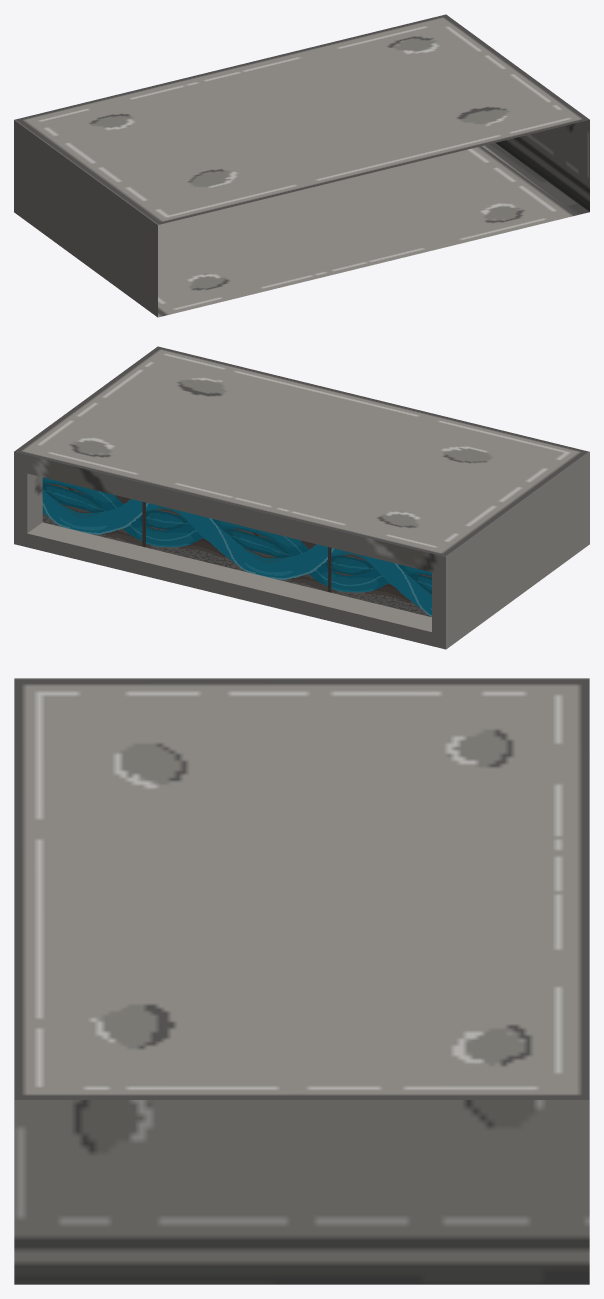
Rendered from SmallWallFBX.fbx.
3 views of the same model, one above another, from view 1: azimuth 30°, elevation 25°; view 2: azimuth 150°, elevation 25°; view 3: azimuth 270°, elevation 25° (orthographic). The views are drawn at different scales.
Parts seen in each view (by area): view 1: SmallWallFBX; view 2: SmallWallFBX; view 3: SmallWallFBX.
Boxes of the visible parts, x1=… form: SmallWallFBX: x1=14, y1=14, x2=589, y2=317; SmallWallFBX: x1=14, y1=346, x2=589, y2=649; SmallWallFBX: x1=14, y1=678, x2=589, y2=1284.
Size of the model in its own units: 5.23 by 1.07 by 3.02.
